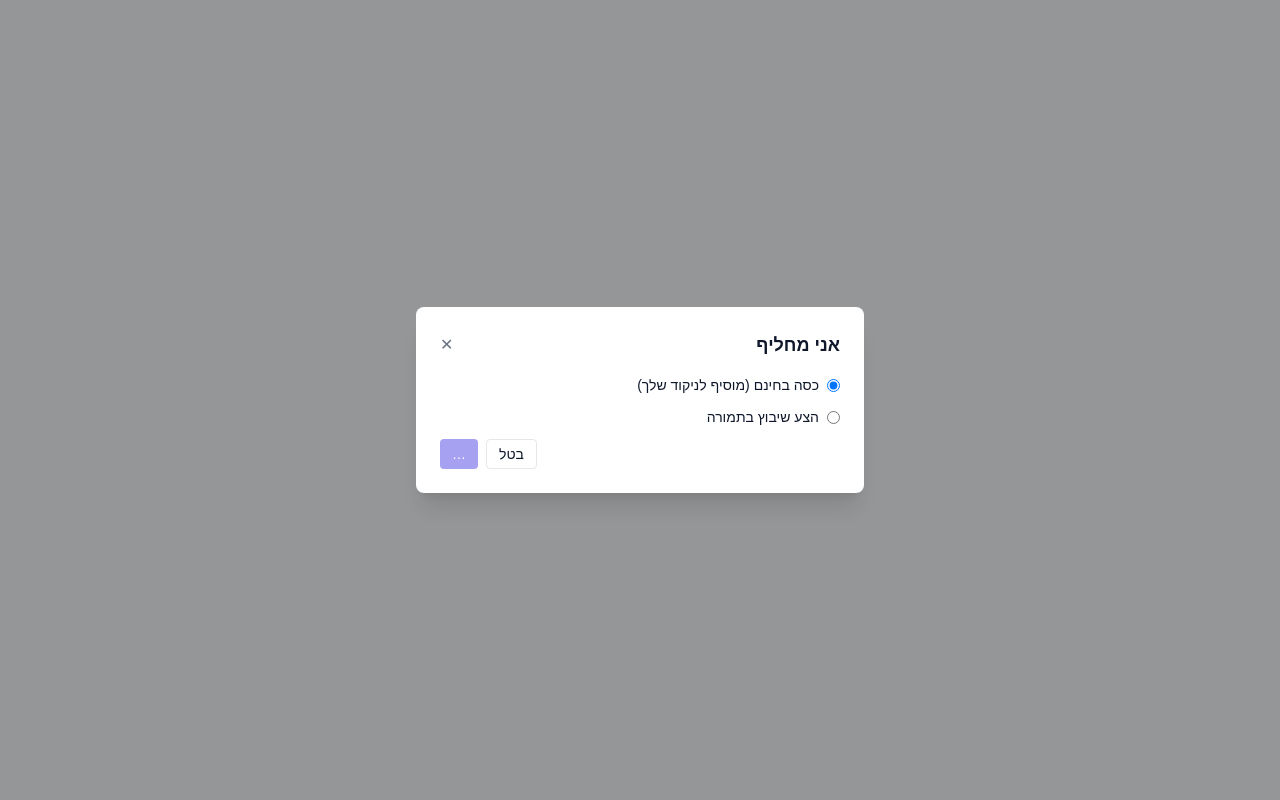
CoverOfferModal › shows a clear empty-state message in trade mode when there are no offerable duties
Click the radio button labelled "הצע שיבוץ בתמורה". click: (834, 417)
box: x1=827 y1=410 x2=840 y2=424
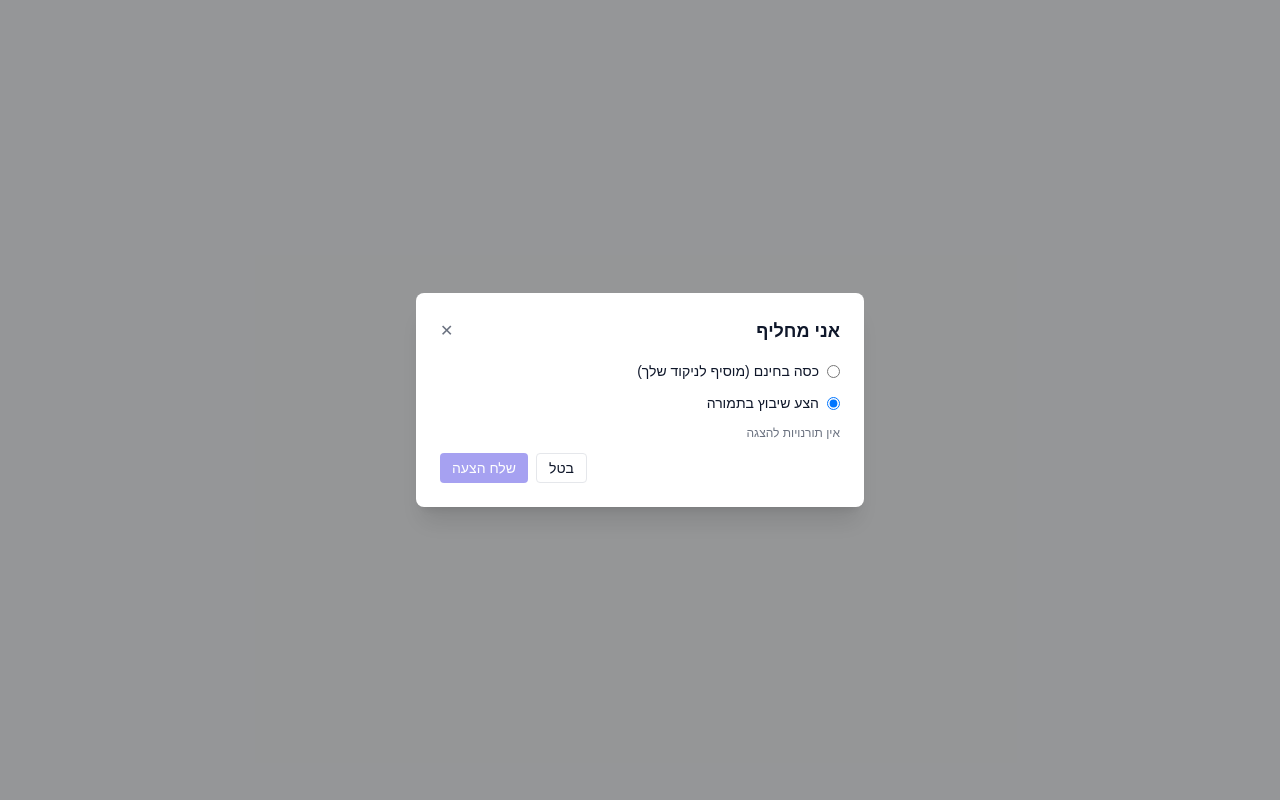
Result: the text "אין תורנויות להצגה" is shown at x1=746 y1=426 x2=840 y2=440
